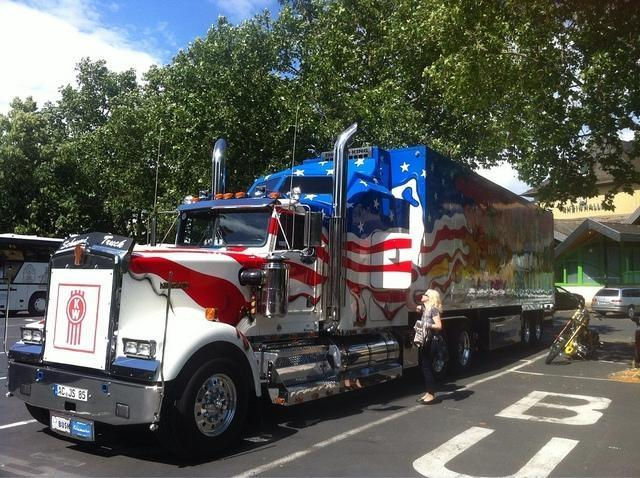bus: (3, 234, 62, 321)
car: (592, 288, 640, 318), (554, 286, 588, 310)
motorcycle: (544, 294, 605, 362)
truck: (9, 119, 558, 456)
